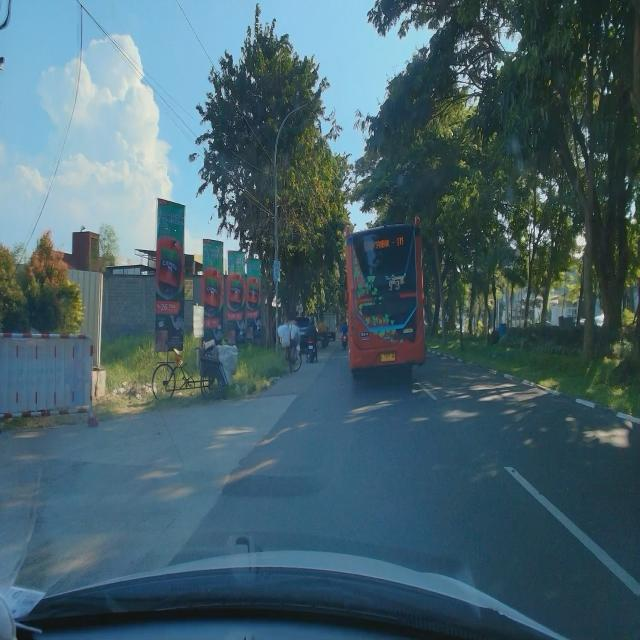bus: (343, 215, 427, 384)
license-plate: (380, 352, 396, 362)
